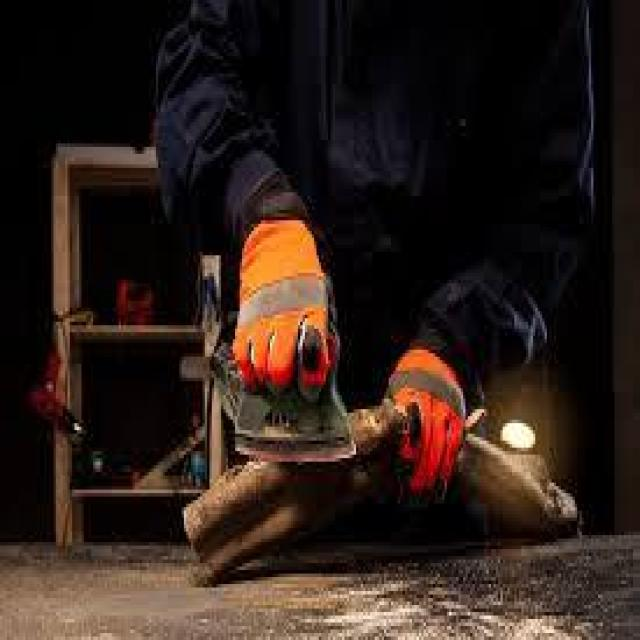Gloves: (225, 178, 350, 408), (378, 315, 468, 514)
Person: (155, 0, 596, 495)
